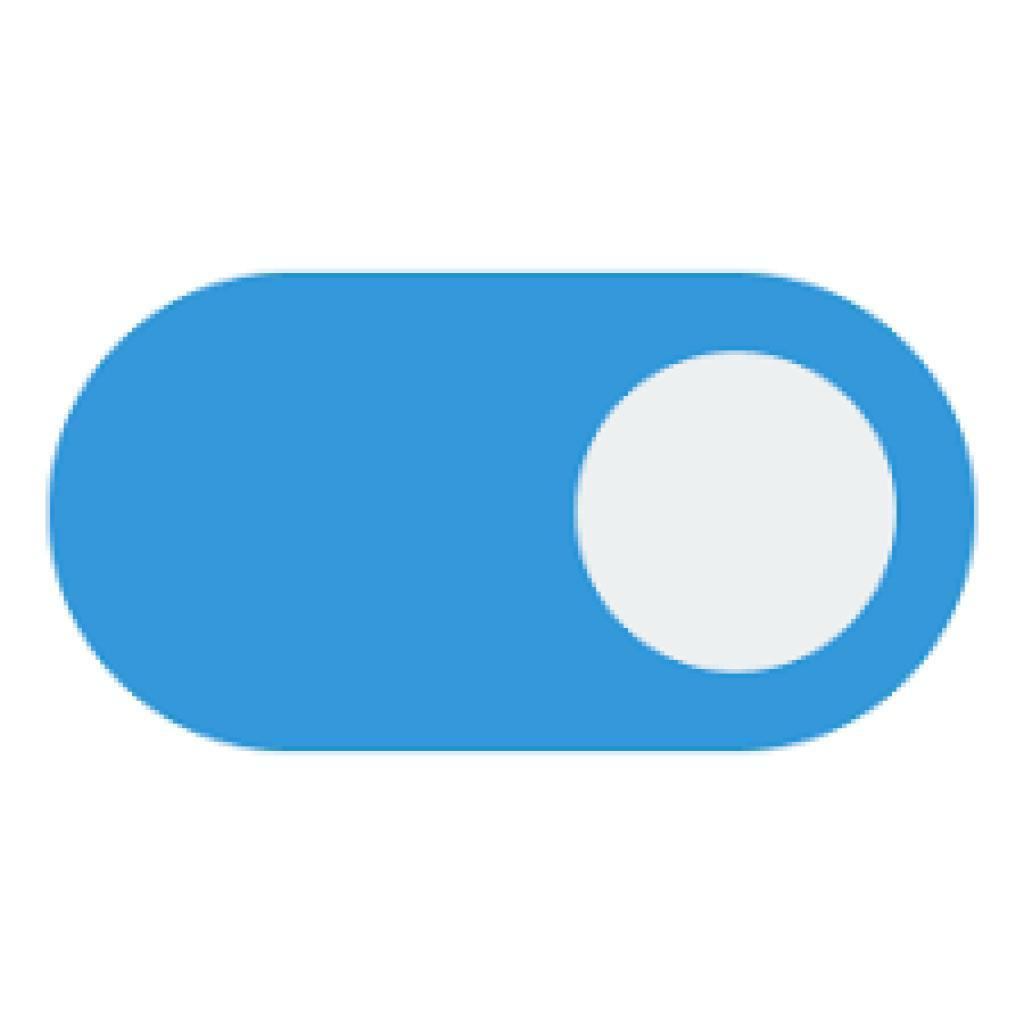switch: (48, 273, 979, 753)
